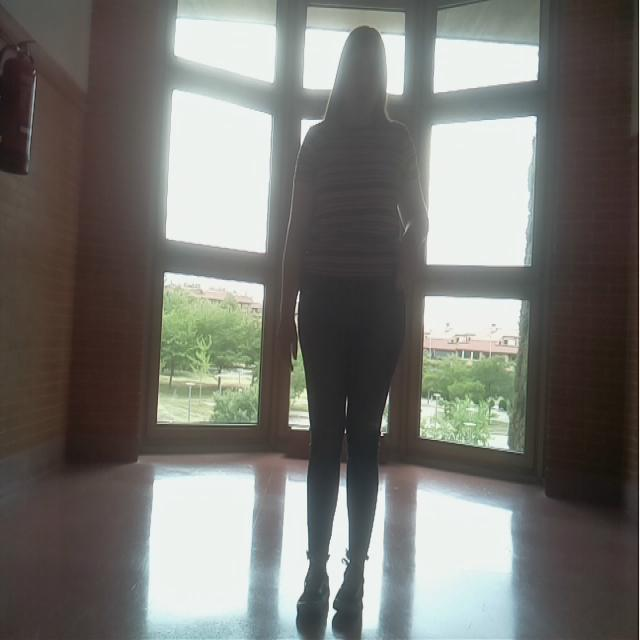person: (280, 21, 432, 626)
